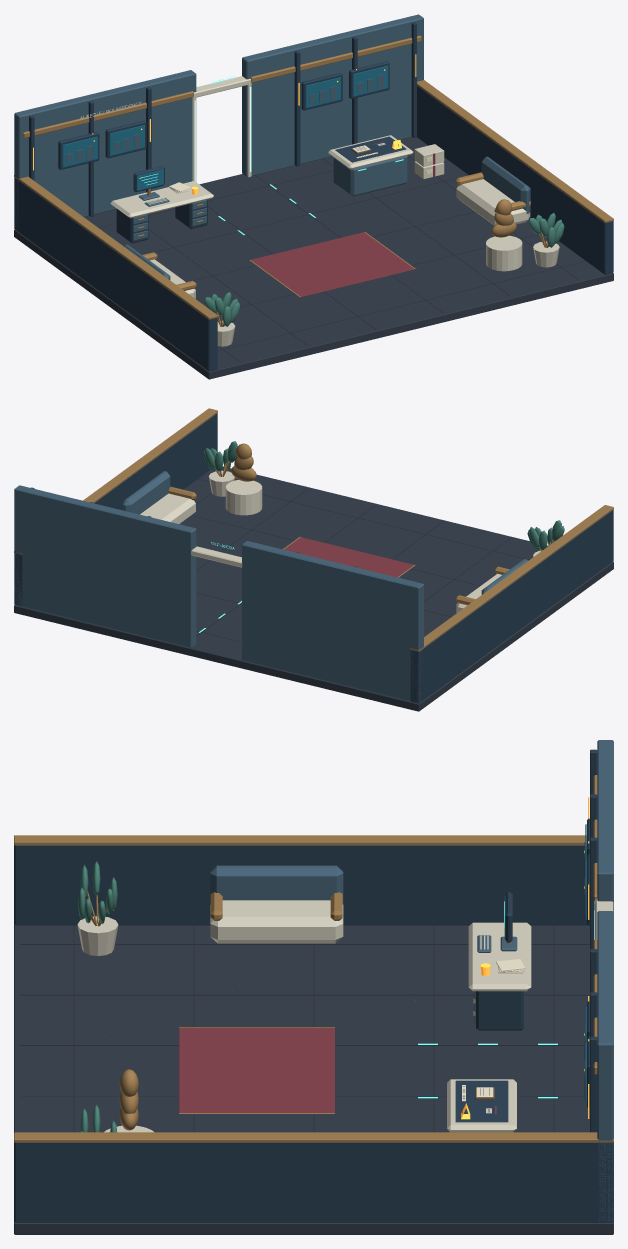
Rendered from lobby.glb.
3 views of the same model, one above another, from view 1: azimuth 30°, elevation 25°; view 2: azimuth 150°, elevation 25°; view 3: azimuth 270°, elevation 25° (orthographic). The views are drawn at different scales.
Parts seen in each view (by area): view 1: lobby_architecture; view 2: lobby_architecture; view 3: lobby_architecture.
Boxes of the visible parts, <box> form: lobby_architecture: <box>14,14,613,379</box>; lobby_architecture: <box>14,408,613,711</box>; lobby_architecture: <box>14,740,613,1234</box>.
Size of the model in its own units: 12 by 3.52 by 10.
